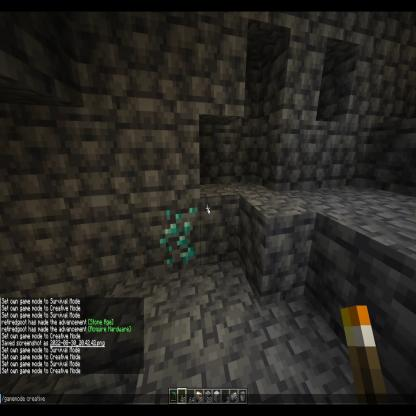diamond ore: (159, 196, 203, 272)
